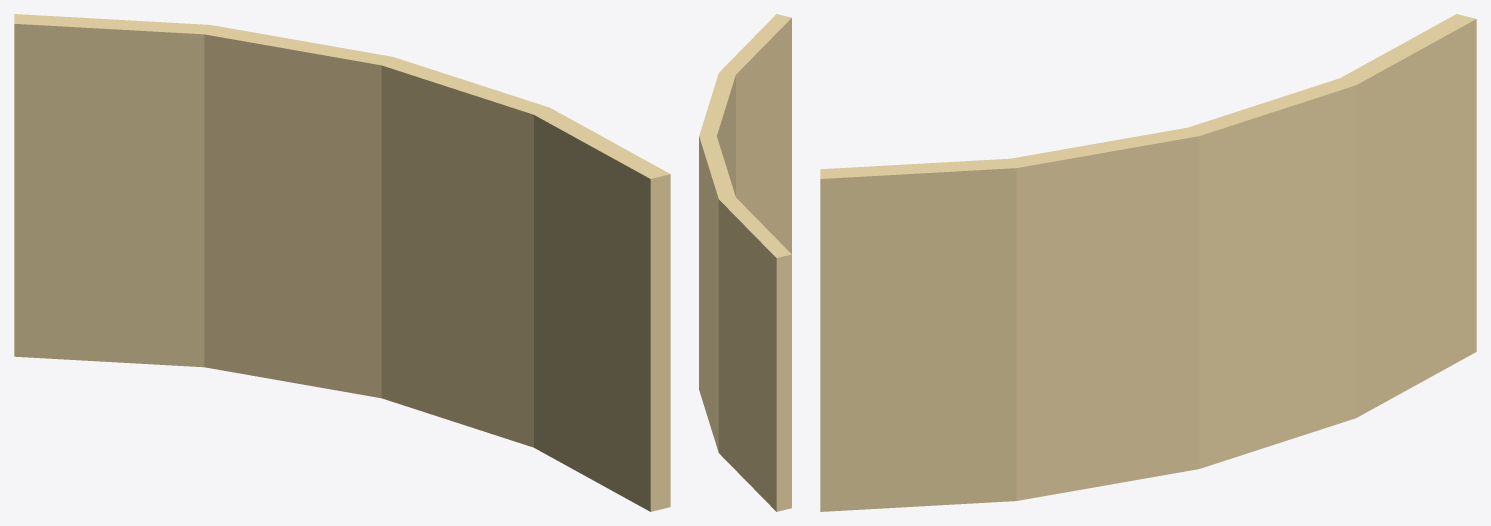
3 views of the same model, side by side, from view 1: azimuth 30°, elevation 25°; view 2: azimuth 150°, elevation 25°; view 3: azimuth 270°, elevation 25° (orthographic). The views are drawn at different scales.
Visible parts, largest first — view 1: 低岸外60度_岸壁.001; view 2: 低岸外60度_岸壁.001; view 3: 低岸外60度_岸壁.001.
Part boxes in pixels (left/top/right/bottom): 低岸外60度_岸壁.001: left=14, top=14, right=670, bottom=511; 低岸外60度_岸壁.001: left=699, top=14, right=791, bottom=511; 低岸外60度_岸壁.001: left=820, top=14, right=1476, bottom=511.
Size of the model in its own units: 0.202 by 0.19 by 0.3395.
